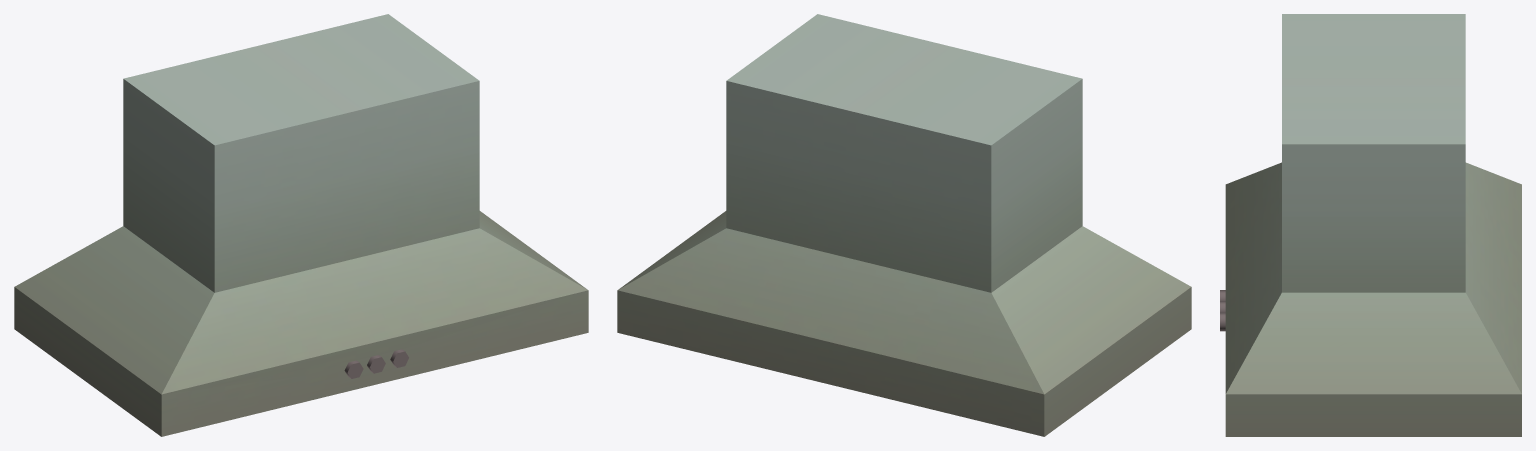
Rendered from SM_Exhaust_Fan_01.fbx.
3 renders of one model, left to right at view 1: azimuth 30°, elevation 25°; view 2: azimuth 150°, elevation 25°; view 3: azimuth 270°, elevation 25°, orthographic.
Parts seen in each view (by area): view 1: SM_Exhaust_Fan_01; view 2: SM_Exhaust_Fan_01; view 3: SM_Exhaust_Fan_01.
Boxes of the visible parts, left/top/right/bottom form: SM_Exhaust_Fan_01: left=14, top=14, right=588, bottom=436; SM_Exhaust_Fan_01: left=617, top=14, right=1191, bottom=436; SM_Exhaust_Fan_01: left=1220, top=14, right=1521, bottom=436.
Size of the model in its own units: 89.67 by 50.42 by 54.52.
